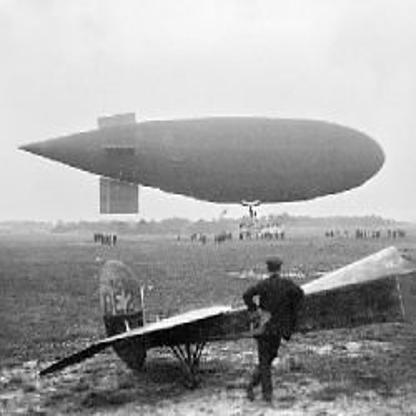Airship: (14, 109, 397, 217)
